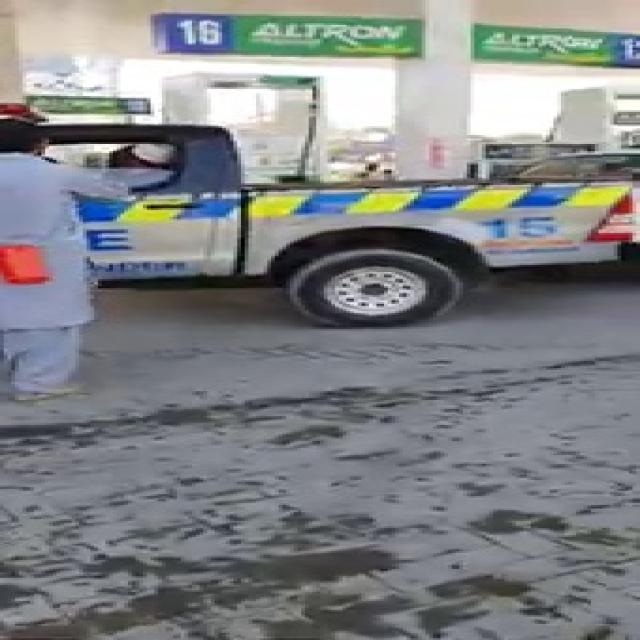police: (0, 116, 640, 350)
